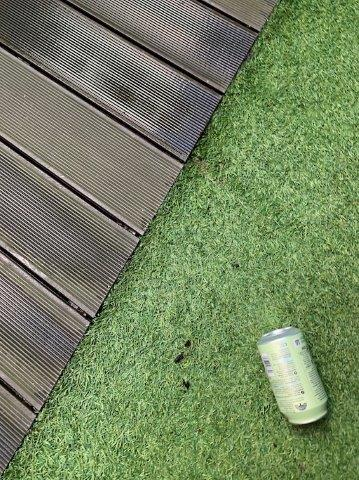kaleng: (256, 326, 328, 425)
